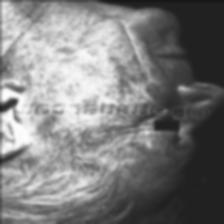Potentially Malignant Skin Tumors: (7, 41, 157, 102), (160, 82, 214, 100)
